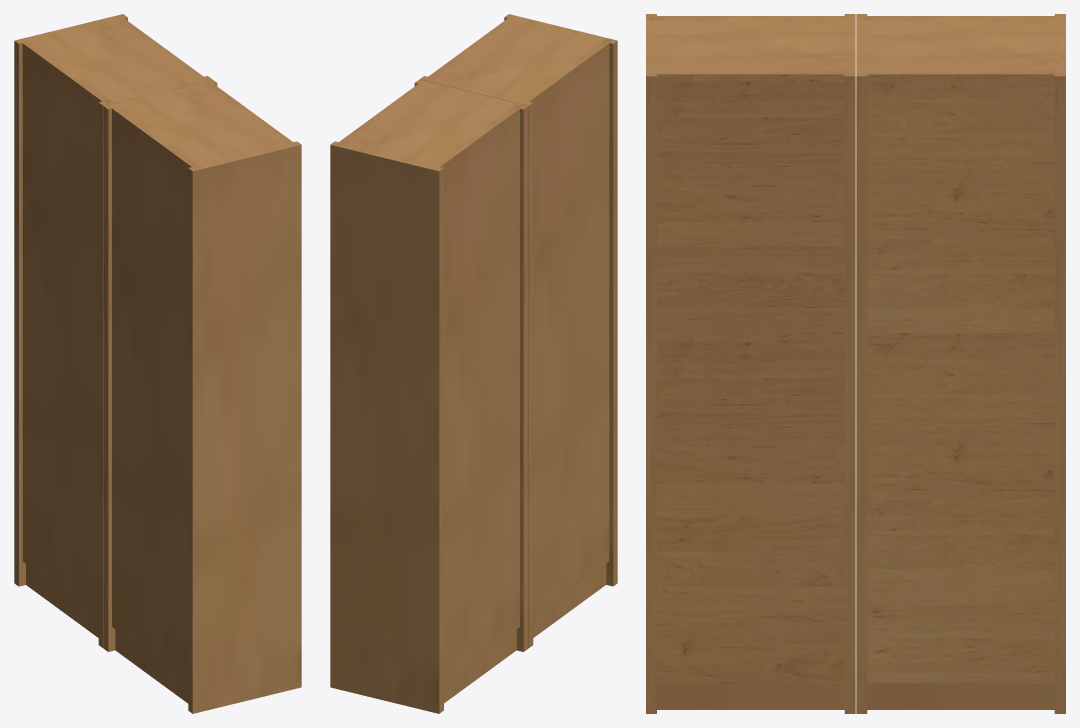
Rendered from shaf_mast2.fbx.
3 views of the same model, side by side, from view 1: azimuth 30°, elevation 25°; view 2: azimuth 150°, elevation 25°; view 3: azimuth 270°, elevation 25° (orthographic). The views are drawn at different scales.
Parts seen in each view (by area): view 1: sh_m3; view 2: sh_m3; view 3: sh_m3.
Boxes of the visible parts, bbox=[...] form: sh_m3: bbox=[14, 14, 301, 713]; sh_m3: bbox=[330, 14, 617, 713]; sh_m3: bbox=[646, 14, 1065, 713].
Bounding box in the file's own units: 0.2861 × 1.36 × 0.8123.
